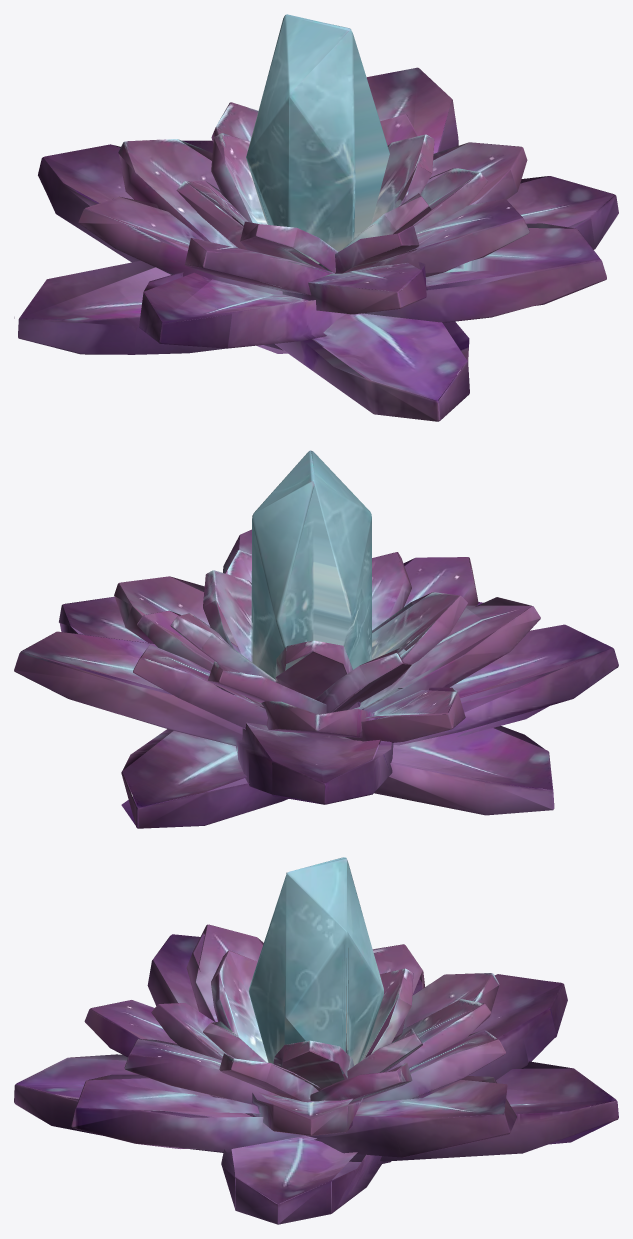
Rendered from lotus.glb.
3 renders of one model, top to bottom at view 1: azimuth 30°, elevation 25°; view 2: azimuth 150°, elevation 25°; view 3: azimuth 270°, elevation 25°, orthographic. The views are drawn at different scales.
Visible parts, largest first — view 1: pPlatonic3.002; view 2: pPlatonic3.002; view 3: pPlatonic3.002.
Part boxes in pixels (x1,y1,x2,y2): pPlatonic3.002: (14, 14, 618, 421); pPlatonic3.002: (14, 450, 618, 828); pPlatonic3.002: (14, 857, 618, 1224).
Size of the model in its own units: 2 by 1 by 2.
Materials: 2 (2 with a texture image).
